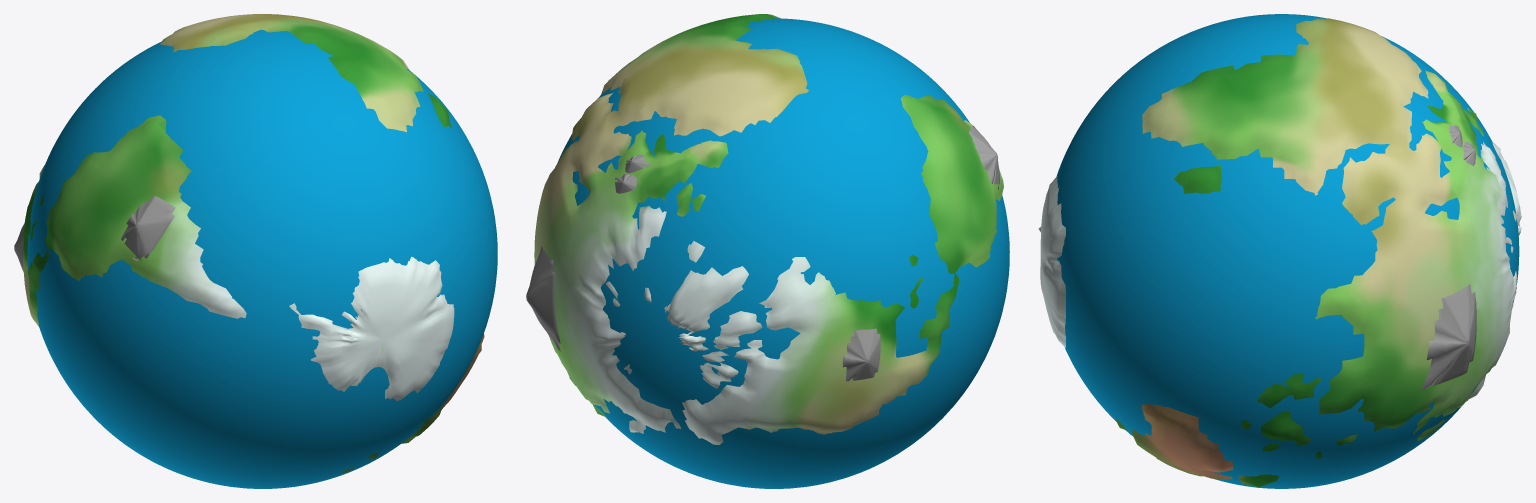
Rendered from EarthV5.fbx.
3 renders of one model, left to right at view 1: azimuth 30°, elevation 25°; view 2: azimuth 150°, elevation 25°; view 3: azimuth 270°, elevation 25°, orthographic.
Visible parts, largest first — view 1: EarthNormal, Land, Mountains; view 2: EarthNormal, Land, Mountains; view 3: EarthNormal, Land, Mountains.
Part boxes in pixels (left/top/right/bottom): EarthNormal: left=27, top=30, right=497, bottom=488; Land: left=23, top=14, right=484, bottom=472; Mountains: left=14, top=195, right=175, bottom=271; EarthNormal: left=557, top=18, right=1009, bottom=488; Land: left=534, top=14, right=1003, bottom=444; Mountains: left=526, top=126, right=999, bottom=381; EarthNormal: left=1057, top=14, right=1519, bottom=488; Land: left=1038, top=18, right=1521, bottom=487; Mountains: left=1421, top=124, right=1476, bottom=389.
Bounding box in the file's own units: 792 × 794 × 803.
